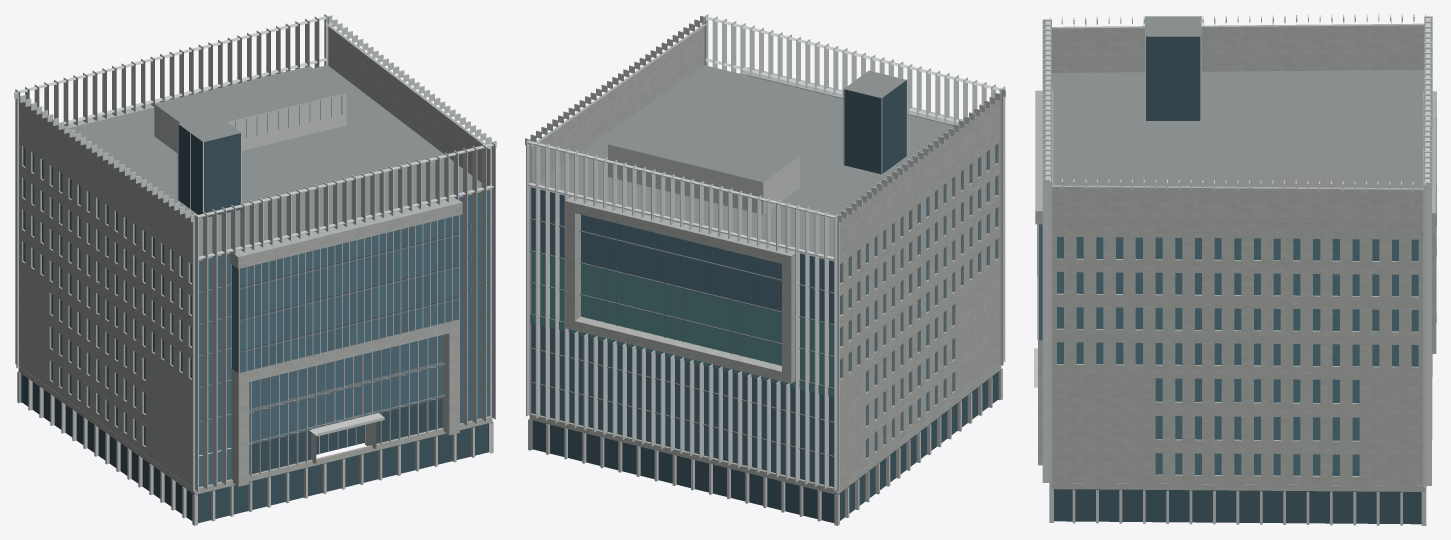
The picture shows the model from 3 angles, left to right: view 1: azimuth 30°, elevation 25°; view 2: azimuth 150°, elevation 25°; view 3: azimuth 270°, elevation 25°; orthographic projection. The views are drawn at different scales.
Visible parts, largest first — view 1: library__stone, library__light, library__glass, library__roof, library__glassDark, library__cream, library__glassCool, library__glassSoft, library__frame, library__glassSpandrel; view 2: library__stone, library__light, library__glass, library__roof, library__glassDark, library__glassTeal, library__cream, library__frame; view 3: library__stone, library__roof, library__glass, library__glassDark, library__light, library__cream.
Boxes of the visible parts, x1,y1,x2,y2 form: library__stone: (18, 23, 492, 494); library__light: (14, 14, 496, 491); library__glass: (23, 146, 490, 486); library__roof: (70, 65, 490, 421); library__glassDark: (20, 124, 488, 523); library__cream: (16, 21, 493, 525); library__glassCool: (240, 226, 458, 366); library__glassSoft: (240, 221, 458, 361); library__frame: (235, 95, 458, 444); library__glassSpandrel: (240, 233, 458, 351); library__stone: (529, 23, 1001, 494); library__light: (525, 14, 1005, 491); library__glass: (531, 144, 996, 487); library__roof: (531, 65, 953, 261); library__glassDark: (532, 80, 999, 522); library__glassTeal: (530, 252, 833, 397); library__cream: (528, 22, 1003, 525); library__frame: (530, 216, 833, 457); library__stone: (1035, 23, 1436, 491); library__roof: (1052, 16, 1423, 188); library__glass: (1039, 224, 1418, 475); library__glassDark: (1054, 36, 1421, 524); library__light: (1037, 14, 1432, 485); library__cream: (1034, 173, 1426, 525).
Size of the model in its own units: 44.87 by 45.8 by 44.72.
Materials: 11 (1 with a texture image).
